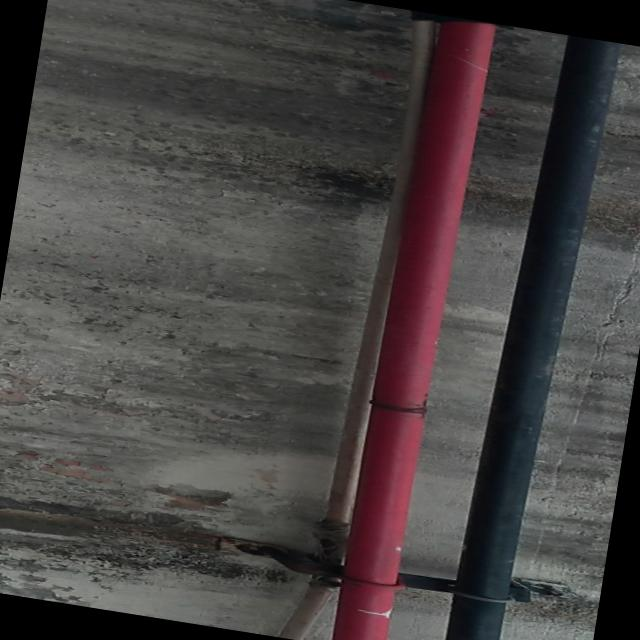gas: (435, 30, 627, 640), (329, 13, 498, 640)
